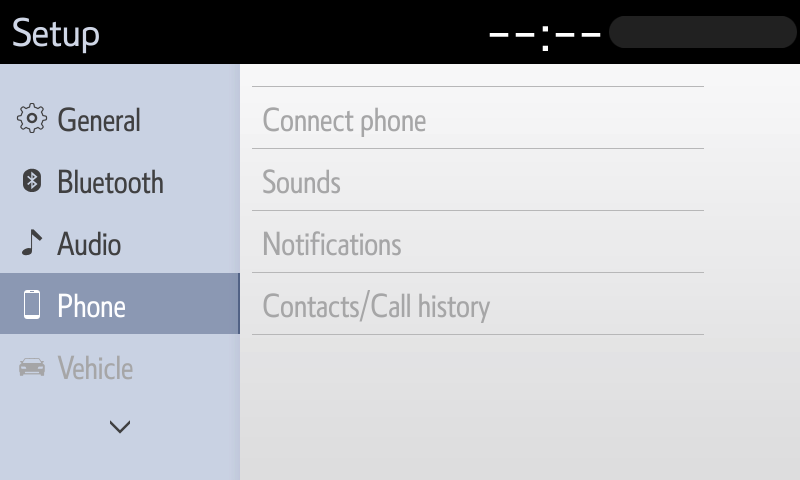touchPart: (13, 162, 177, 205), (9, 97, 152, 139), (14, 226, 129, 263), (100, 416, 141, 438)
untouchPart: (252, 80, 706, 158), (246, 145, 717, 217), (249, 205, 710, 278), (252, 270, 708, 340), (2, 269, 246, 339), (465, 12, 797, 54), (5, 7, 106, 51), (16, 349, 138, 384)
